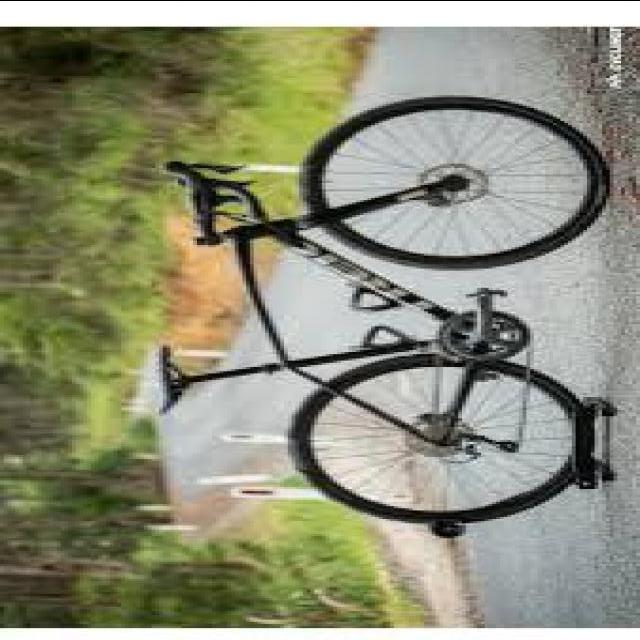bicycle: (149, 97, 615, 519)
